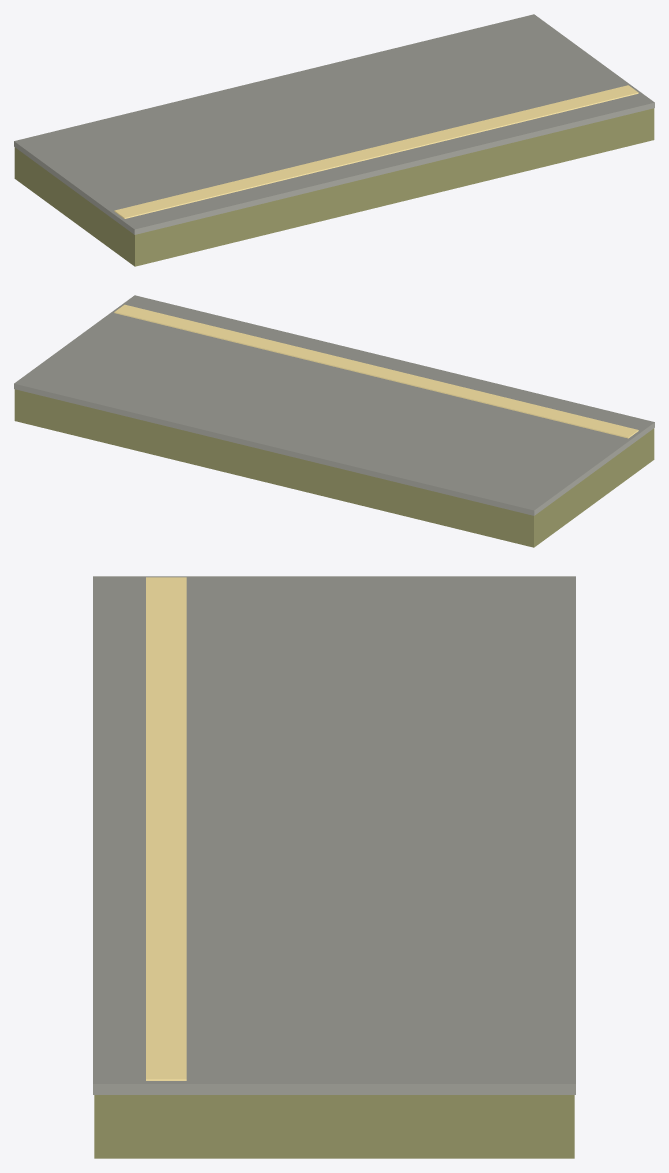
Rendered from SM_KitAnden_v0_LOD1.fbx.
The picture shows the model from 3 angles, top to bottom: view 1: azimuth 30°, elevation 25°; view 2: azimuth 150°, elevation 25°; view 3: azimuth 270°, elevation 25°; orthographic projection. The views are drawn at different scales.
Parts seen in each view (by area): view 1: SM_bloques.kit_anden_v0_LOD1; view 2: SM_bloques.kit_anden_v0_LOD1; view 3: SM_bloques.kit_anden_v0_LOD1.
Part boxes in pixels (<box>): SM_bloques.kit_anden_v0_LOD1: <box>14,14,654,266</box>; SM_bloques.kit_anden_v0_LOD1: <box>14,295,654,547</box>; SM_bloques.kit_anden_v0_LOD1: <box>93,576,575,1158</box>.
Size of the model in its own units: 10 by 0.71 by 4.02.
